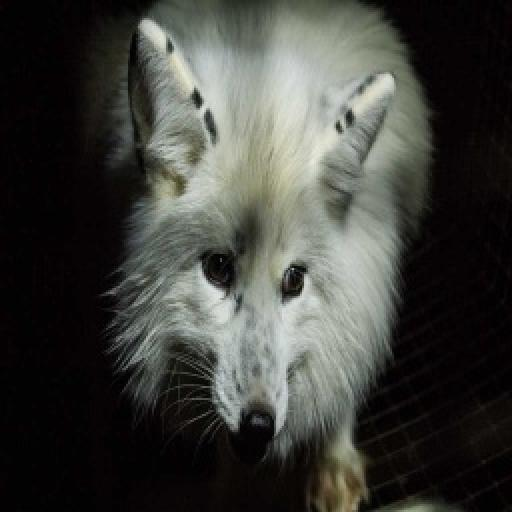zorro: (82, 0, 432, 510)
